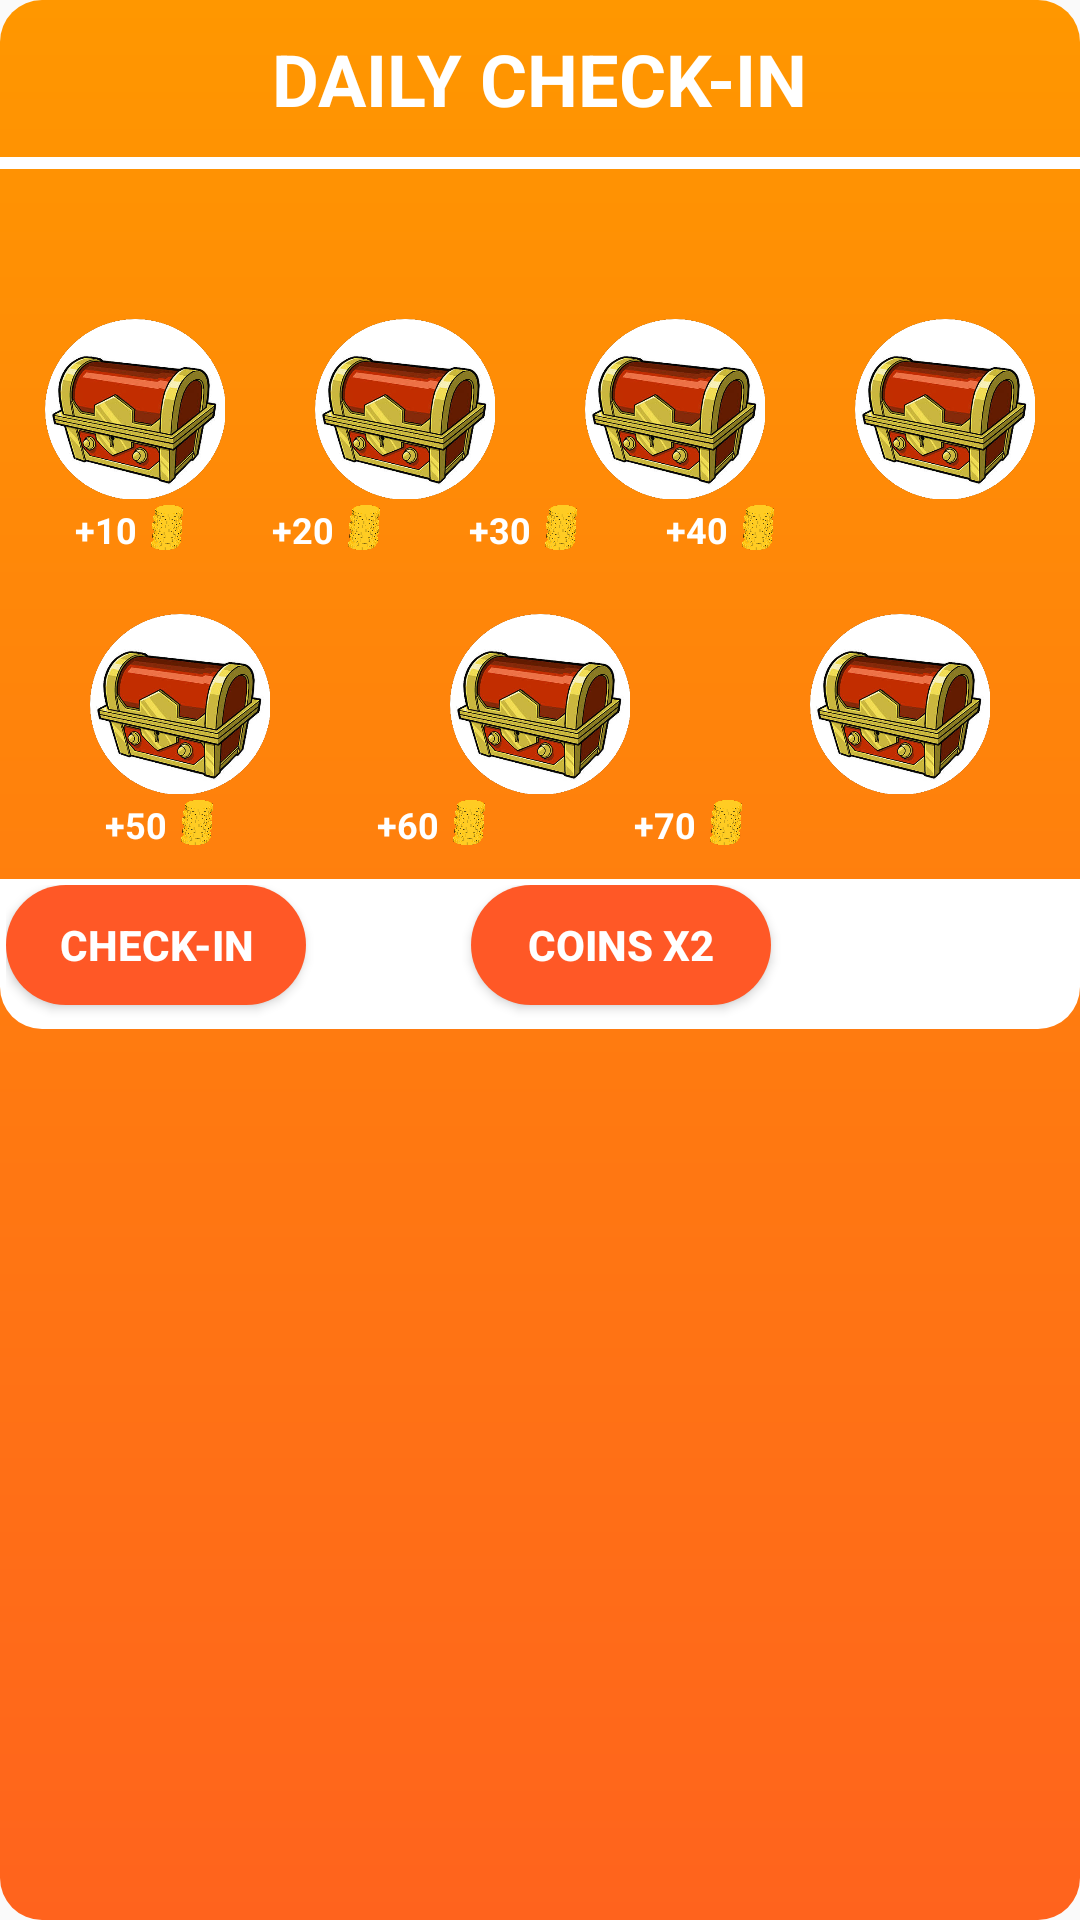

Where to tap for icons on this 1080x1920 app screen, as point (x, y):
chest close: point (135, 409), point (405, 409), point (675, 409), point (945, 409), point (180, 704), point (540, 704), point (900, 704)
